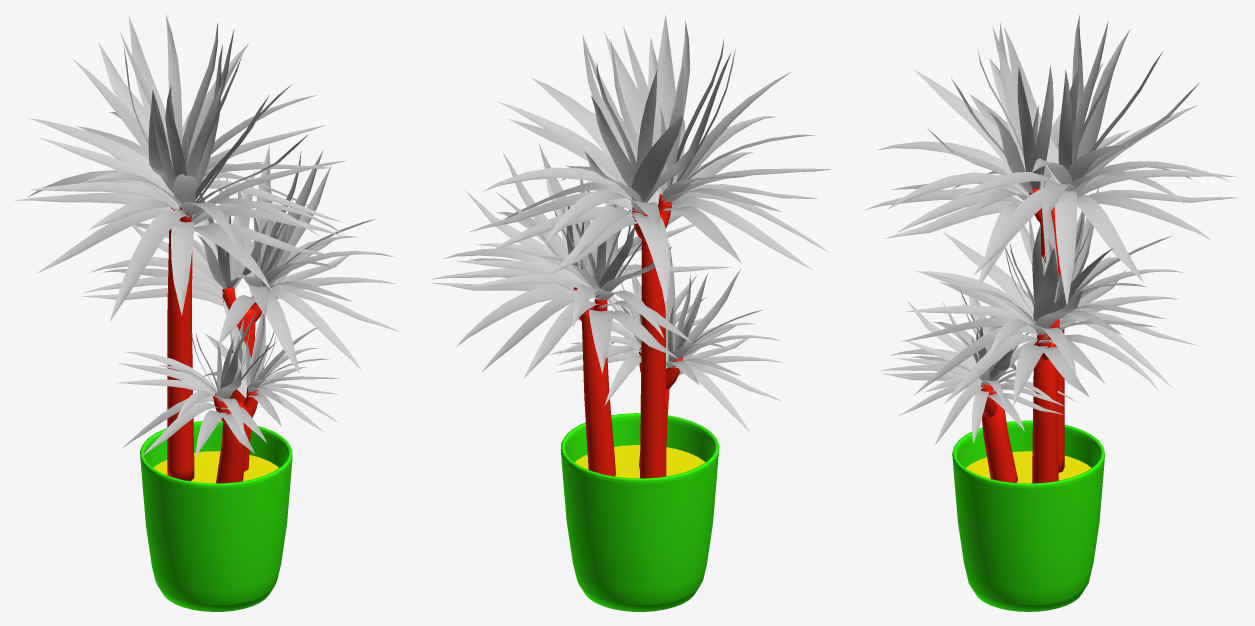
The picture shows the model from 3 angles, left to right: view 1: azimuth 30°, elevation 25°; view 2: azimuth 150°, elevation 25°; view 3: azimuth 270°, elevation 25°; orthographic projection. The views are drawn at different scales.
Visible parts, largest first — view 1: Yucca_01 (×2); view 2: Yucca_01 (×2); view 3: Yucca_01 (×2).
Boxes of the visible parts, x1,y1,x2,y2 form: Yucca_01 (×2): (14, 15, 399, 611); Yucca_01 (×2): (430, 15, 832, 611); Yucca_01 (×2): (865, 15, 1238, 611).
Size of the model in its own units: 51 by 76.95 by 47.98.
